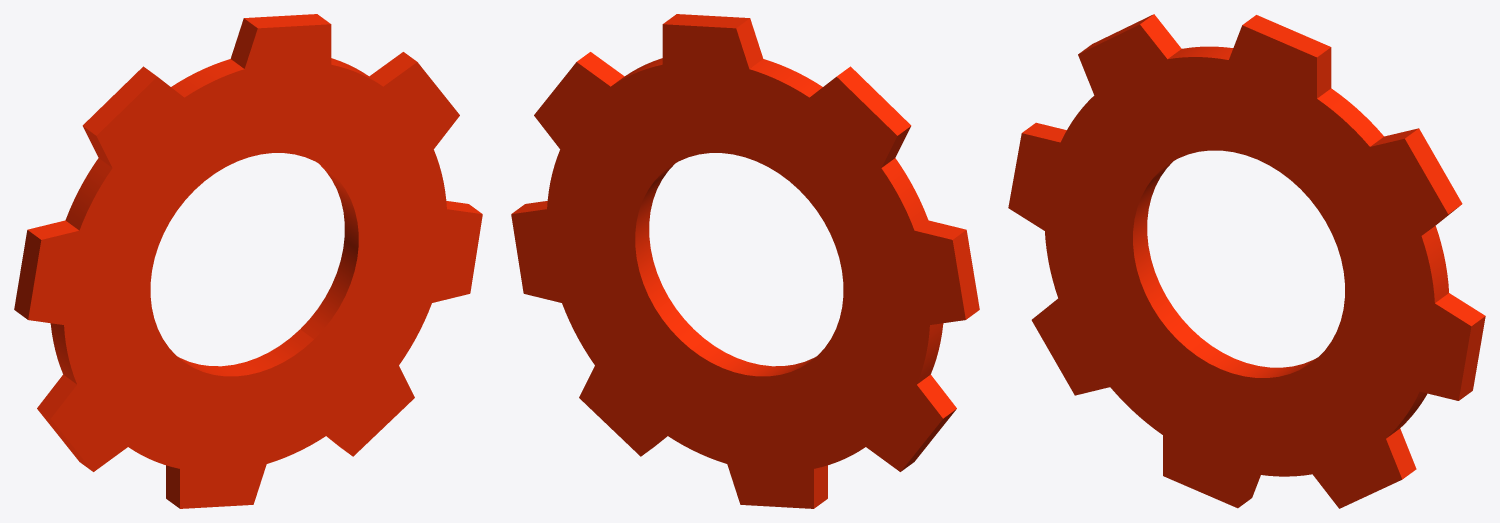
Rendered from only_gear.gltf.
The picture shows the model from 3 angles, left to right: view 1: azimuth 30°, elevation 25°; view 2: azimuth 150°, elevation 25°; view 3: azimuth 330°, elevation 25°; orthographic projection.
Visible parts, largest first — view 1: Object007; view 2: Object007; view 3: Object007.
Boxes of the visible parts, x1,y1,x2,y2 form: Object007: (14, 14, 482, 508); Object007: (511, 14, 979, 508); Object007: (1008, 14, 1485, 508).
Bounding box in the file's own units: 0.4251 × 0.4247 × 0.0227.
